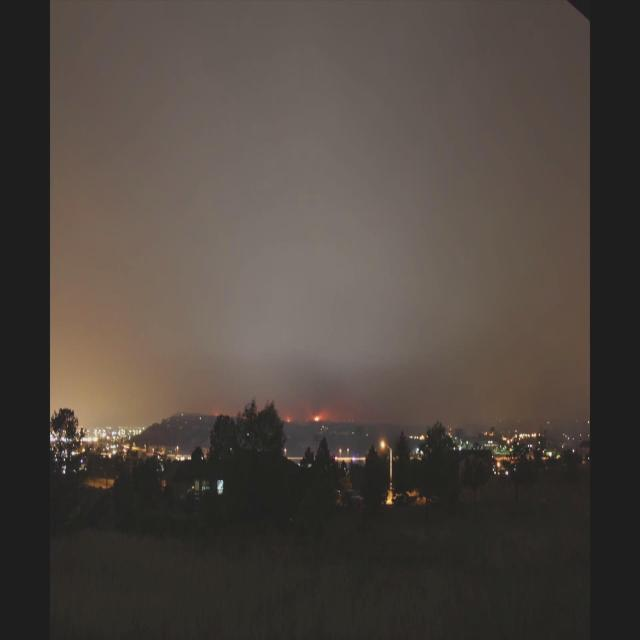Fire: (313, 415, 320, 421), (287, 415, 290, 422)
